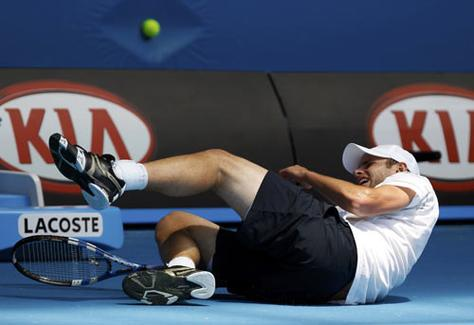down: (37, 126, 441, 310)
